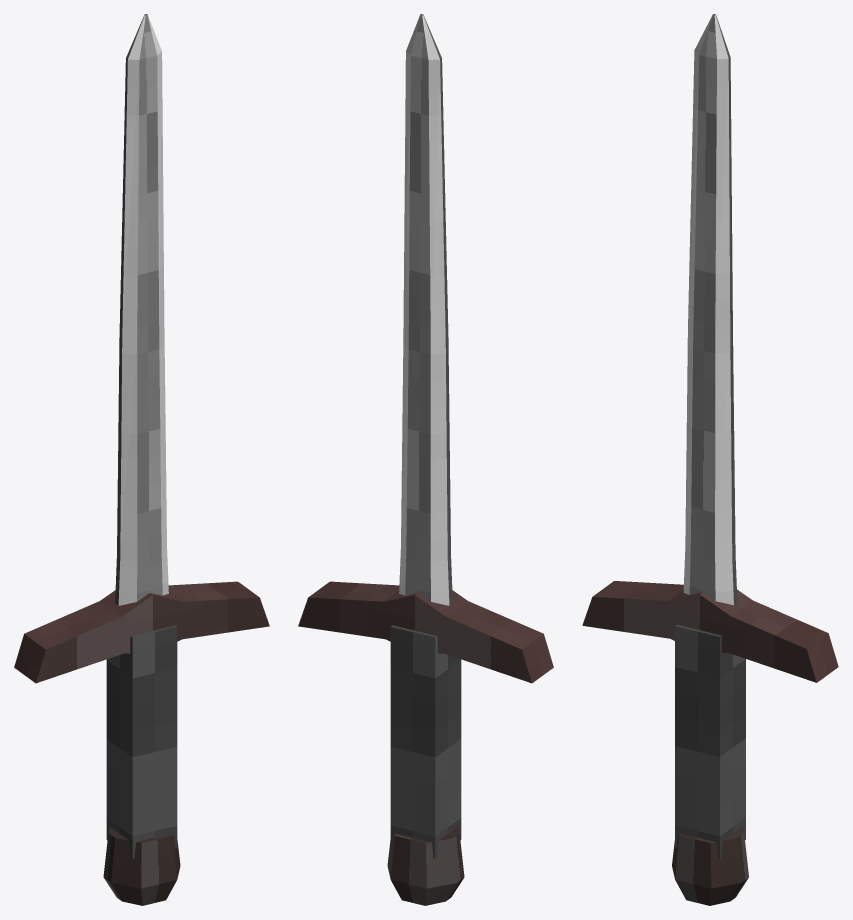
File: cutout.obj
The picture shows the model from 3 angles, left to right: view 1: azimuth 30°, elevation 25°; view 2: azimuth 150°, elevation 25°; view 3: azimuth 330°, elevation 25°; orthographic projection.
Size of the model in its own units: 0.5812 by 2.08 by 0.1484.
